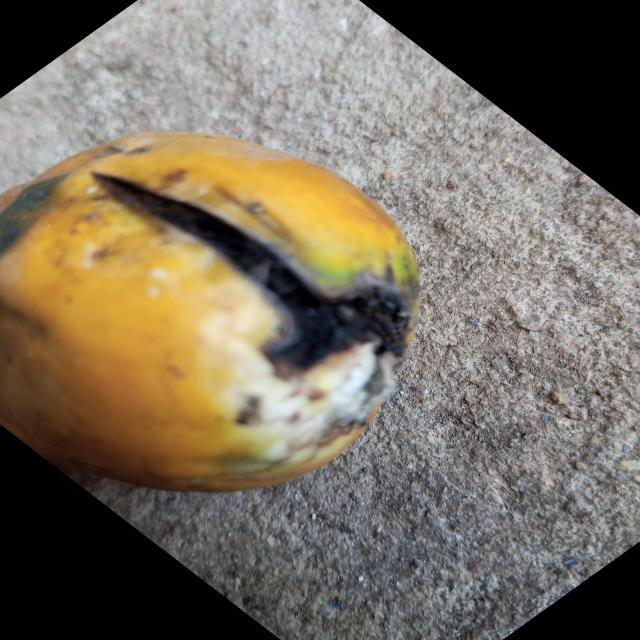damaged: (0, 131, 421, 496)
